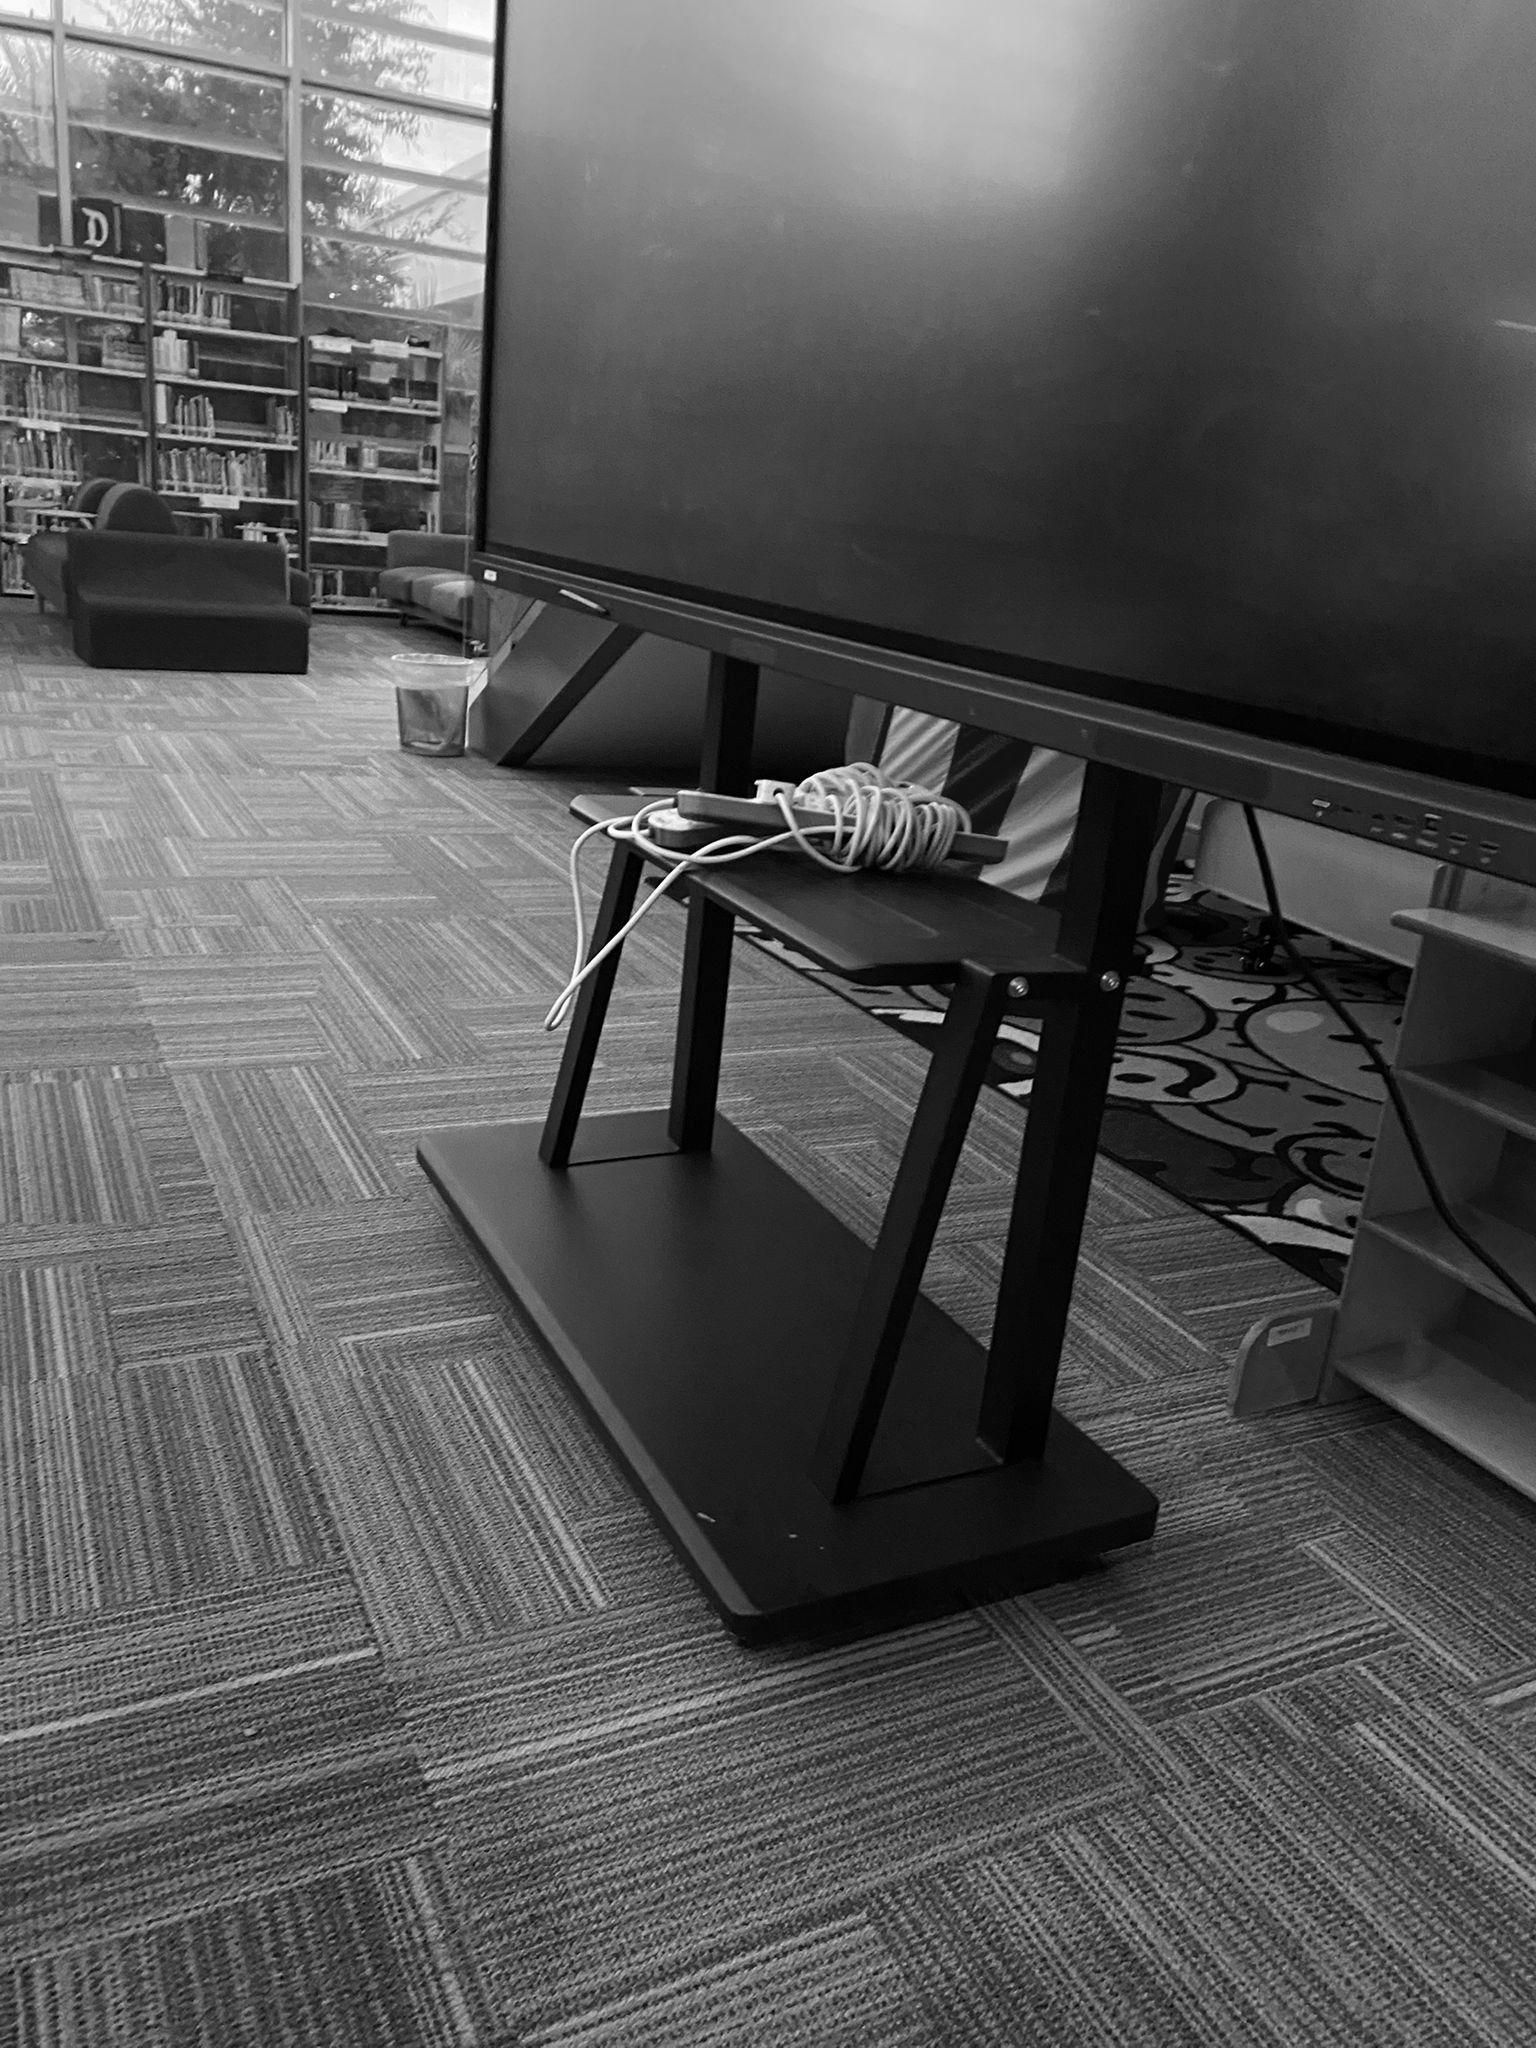Couch: (45, 526, 308, 671), (23, 477, 176, 616), (378, 532, 474, 637)
Tv: (478, 0, 1534, 835)
